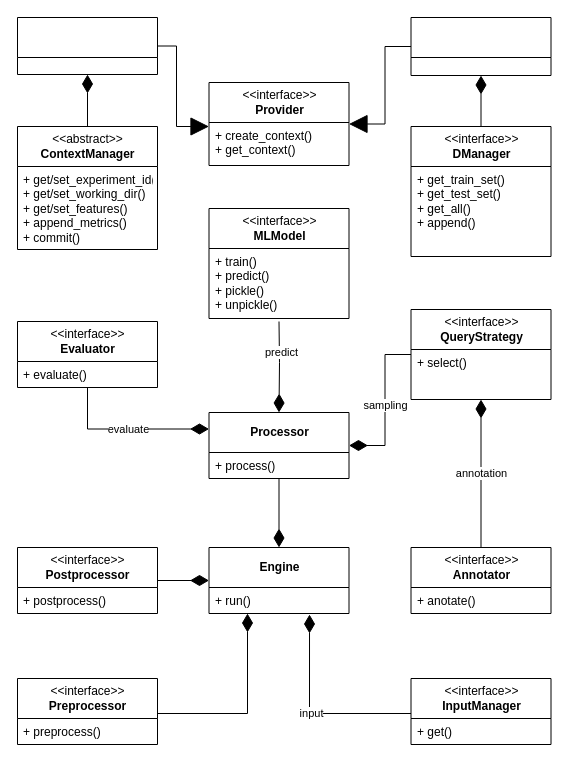
This 569x765 diagram has some shape labels left out. Each missing label, with the centre of its shape:
"ContextProvider" goes at [87,45].
"DbProvider" goes at [480,46].
